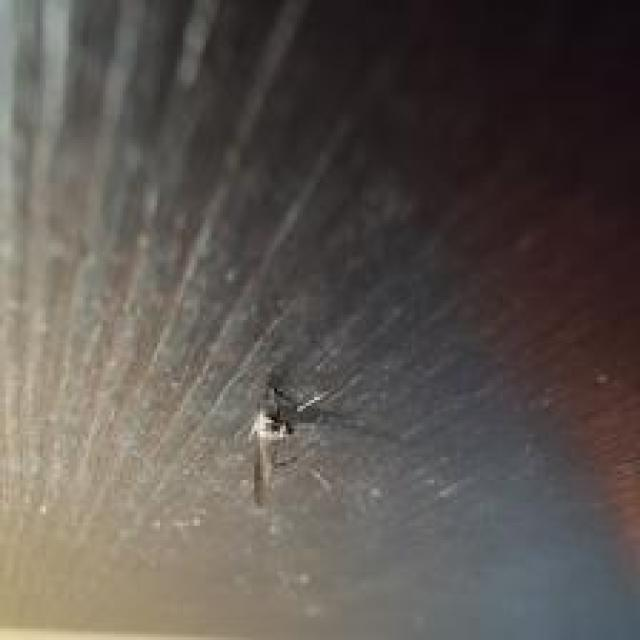Aedes albopictus: (245, 372, 362, 508)
